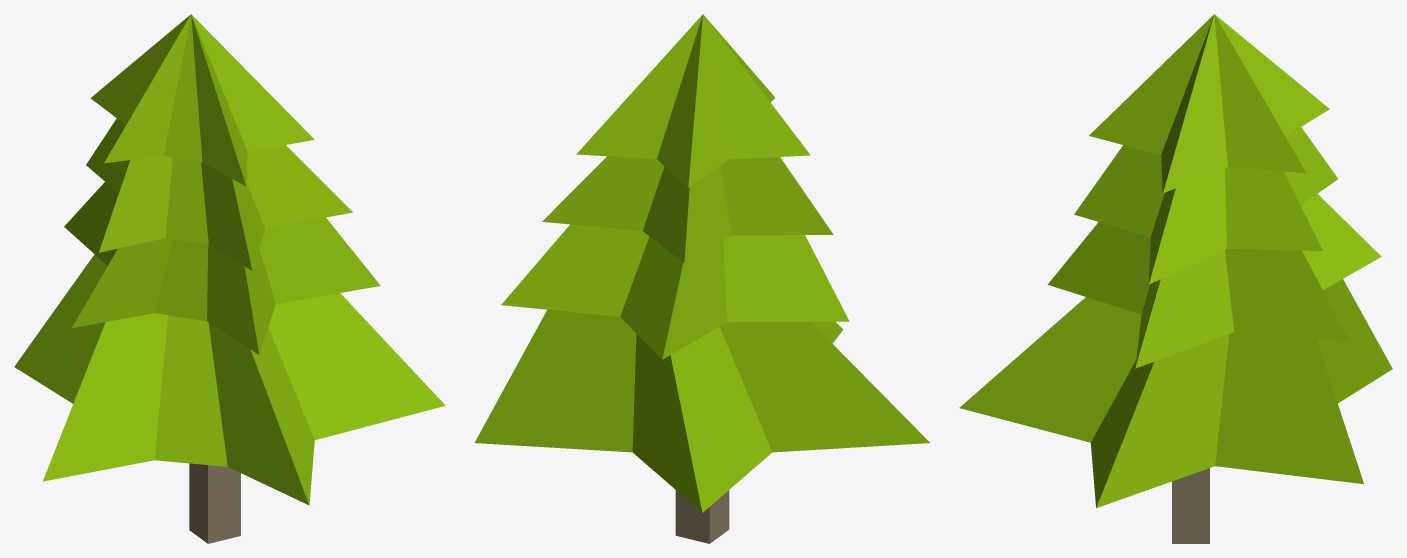
Rendered from tree_pine_star_skewed_5.fbx.
3 views of the same model, side by side, from view 1: azimuth 30°, elevation 25°; view 2: azimuth 150°, elevation 25°; view 3: azimuth 270°, elevation 25° (orthographic). The views are drawn at different scales.
Parts seen in each view (by area): view 1: tree_pine_star_skewed_5; view 2: tree_pine_star_skewed_5; view 3: tree_pine_star_skewed_5.
Part boxes in pixels (left/top/right/bottom): tree_pine_star_skewed_5: left=14, top=14, right=445, bottom=543; tree_pine_star_skewed_5: left=474, top=14, right=929, bottom=543; tree_pine_star_skewed_5: left=959, top=14, right=1392, bottom=543.
Size of the model in its own units: 142 by 184 by 140.
